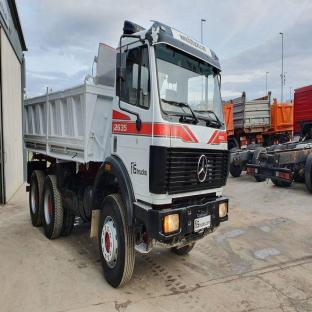Vehicle: (17, 22, 257, 294)
